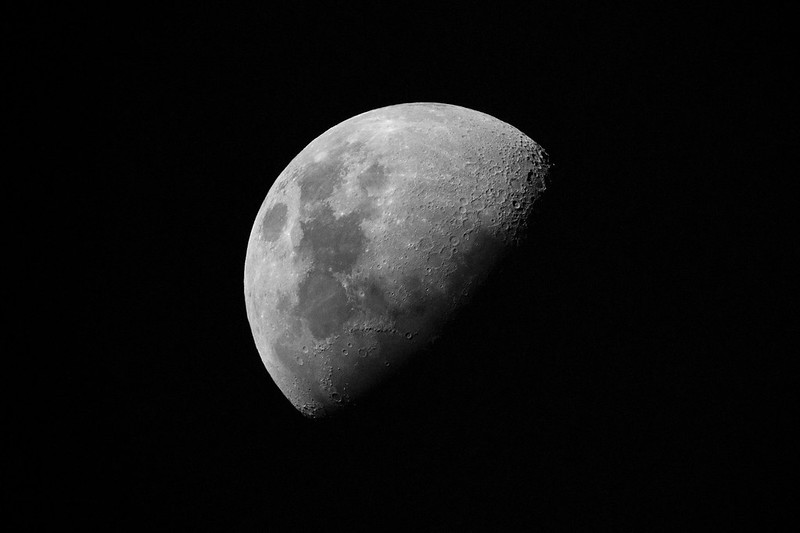crater: (286, 267, 356, 349), (374, 115, 404, 146), (521, 165, 549, 197), (320, 380, 349, 408), (414, 229, 439, 256), (284, 351, 310, 373), (355, 287, 371, 306), (370, 193, 386, 209), (447, 233, 462, 248), (281, 226, 296, 241), (355, 345, 369, 361), (333, 206, 350, 219), (402, 328, 414, 343), (380, 358, 393, 369), (339, 348, 351, 358), (373, 263, 383, 275)
